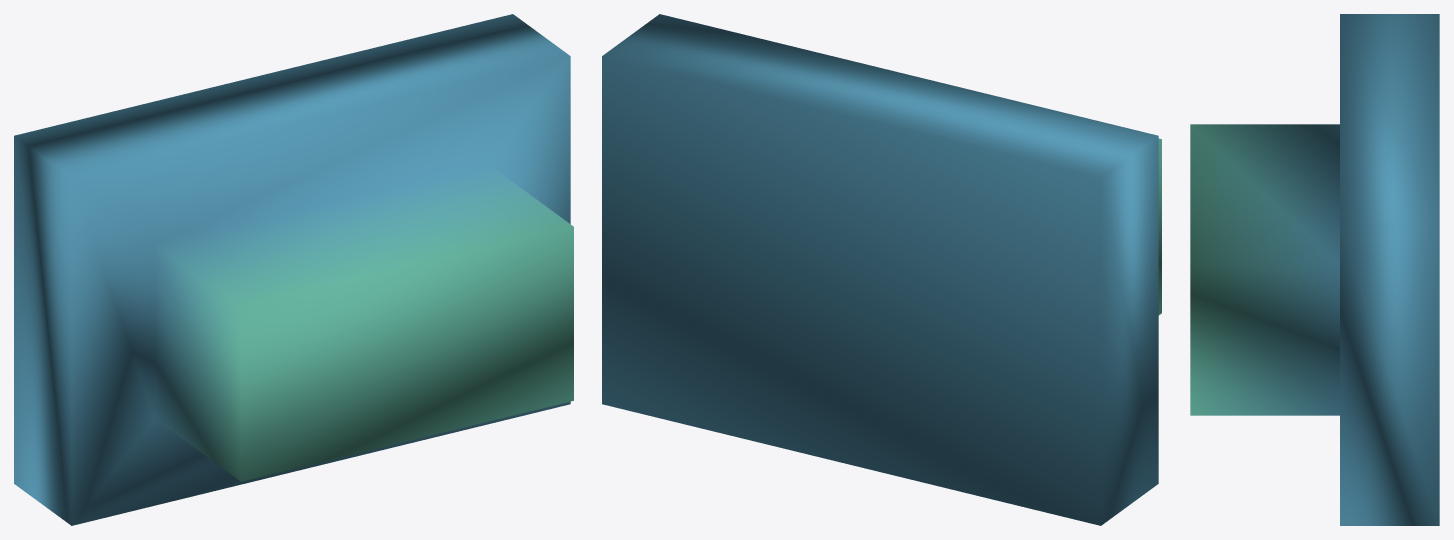
The model's file is x02_artifact.glb.
3 renders of one model, left to right at view 1: azimuth 30°, elevation 25°; view 2: azimuth 150°, elevation 25°; view 3: azimuth 270°, elevation 25°, orthographic. The views are drawn at different scales.
Visible parts, largest first — view 1: ToolboxSolid; view 2: ToolboxSolid; view 3: ToolboxSolid.
Part boxes in pixels (x1,y1,x2,y2): ToolboxSolid: (14, 14, 573, 525); ToolboxSolid: (602, 14, 1161, 525); ToolboxSolid: (1190, 14, 1439, 525).
Bounding box in the file's own units: 60 × 40 × 30.
